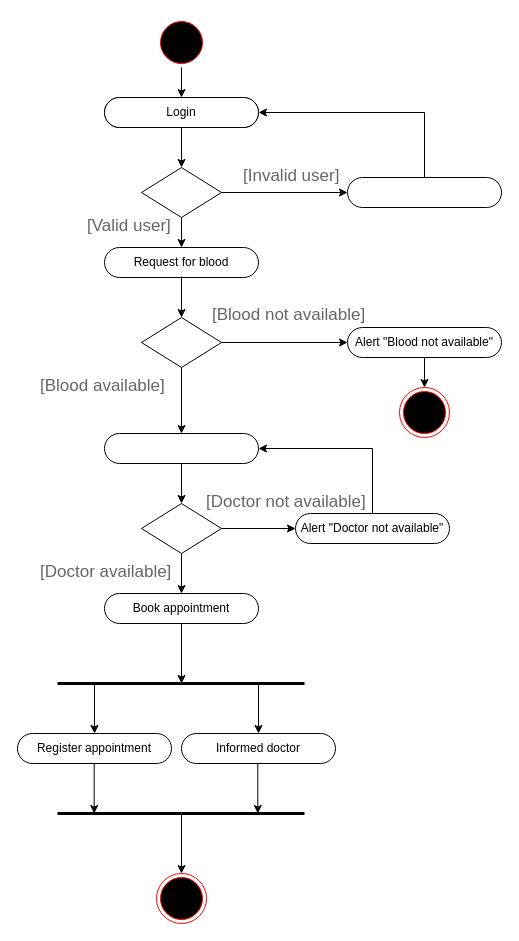
Image size: 519x941. Some labels were removed from this diagram. The centre of each missing label's shape, as x and y in pixels:
Alert "Invalid user id or password": (424,192)
Doctor available: (181,448)
